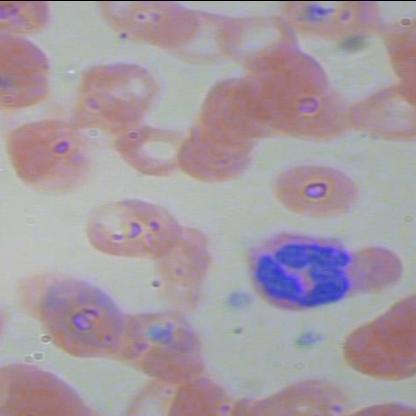Platelets: (290, 324, 330, 350)
RBC: (36, 274, 137, 360), (4, 113, 100, 197), (121, 303, 212, 384), (272, 153, 364, 226), (88, 190, 180, 262), (195, 72, 283, 141), (193, 89, 281, 158), (173, 116, 262, 184), (223, 1, 303, 74), (0, 357, 100, 415), (169, 1, 249, 71), (341, 309, 415, 384), (219, 75, 304, 138), (248, 47, 334, 109), (280, 82, 366, 144), (344, 74, 416, 148), (1, 32, 62, 116), (150, 220, 228, 285), (118, 121, 201, 181), (79, 55, 162, 115), (64, 79, 147, 139), (338, 236, 409, 302), (117, 0, 203, 54)
WBC: (248, 228, 355, 312)
